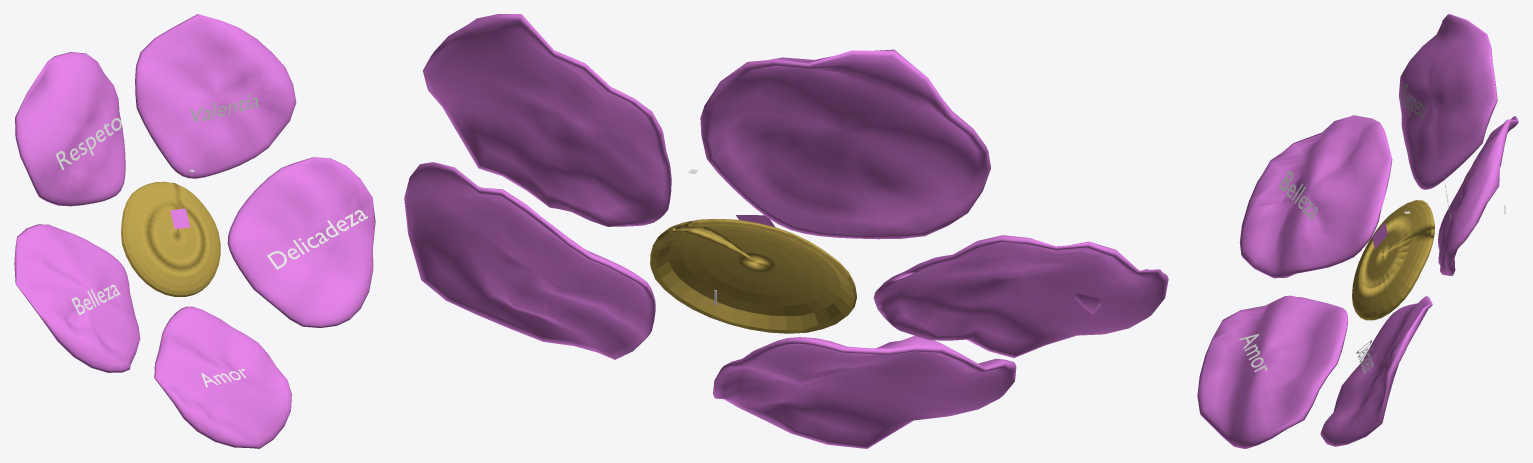
The model's file is flower.glb.
3 renders of one model, left to right at view 1: azimuth 30°, elevation 25°; view 2: azimuth 150°, elevation 25°; view 3: azimuth 270°, elevation 25°, orthographic. The views are drawn at different scales.
Visible parts, largest first — view 1: Esfera.005, Esfera.006, Esfera.002, Esfera.004, Esfera.003, Esfera.001, Texto.004, Texto, Texto.001, Texto.002; view 2: Esfera.004, Esfera.005, Esfera.006, Esfera.003, Esfera.002, Esfera.001; view 3: Esfera.003, Esfera.002, Esfera.004, Esfera.001, Esfera.006, Esfera.005, Texto.002.
Boxes of the visible parts, box(x1,y1,x2,y2) form: Esfera.005: box(135, 14, 296, 178); Esfera.006: box(227, 157, 375, 327); Esfera.002: box(154, 306, 291, 448); Esfera.004: box(15, 52, 125, 206); Esfera.003: box(14, 224, 140, 372); Esfera.001: box(121, 181, 220, 296); Texto.004: box(267, 210, 367, 269); Texto: box(55, 118, 121, 170); Texto.001: box(190, 94, 258, 123); Texto.002: box(71, 284, 120, 315); Esfera.004: box(700, 49, 990, 239); Esfera.005: box(423, 14, 671, 226); Esfera.006: box(404, 162, 655, 359); Esfera.003: box(873, 235, 1168, 357); Esfera.002: box(713, 336, 1016, 448); Esfera.001: box(650, 219, 856, 333); Esfera.003: box(1239, 115, 1392, 278); Esfera.002: box(1197, 295, 1348, 448); Esfera.004: box(1399, 14, 1497, 189); Esfera.001: box(1352, 200, 1434, 320); Esfera.006: box(1320, 296, 1432, 446); Esfera.005: box(1438, 116, 1518, 275); Texto.002: box(1279, 170, 1317, 220).
Bounding box in the file's own units: 45.4 × 37.02 × 29.59.
